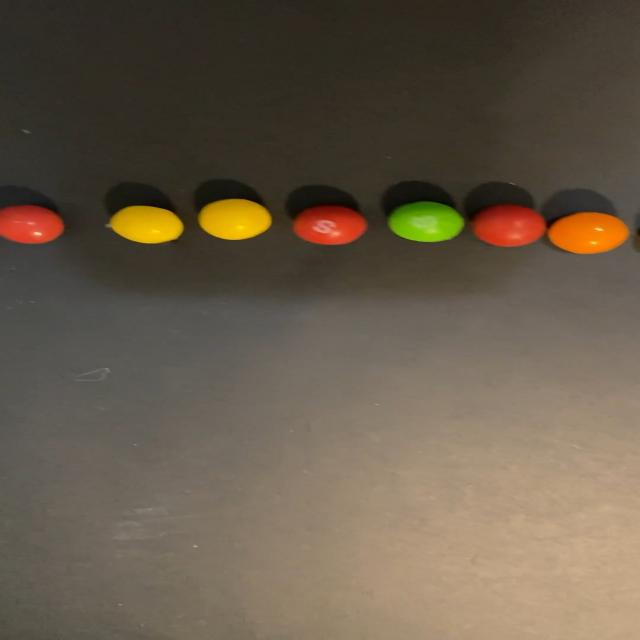smartie: (549, 212, 629, 254), (472, 204, 548, 246), (388, 201, 463, 242), (197, 199, 270, 239), (108, 205, 183, 243), (293, 205, 366, 244), (0, 204, 62, 243)
